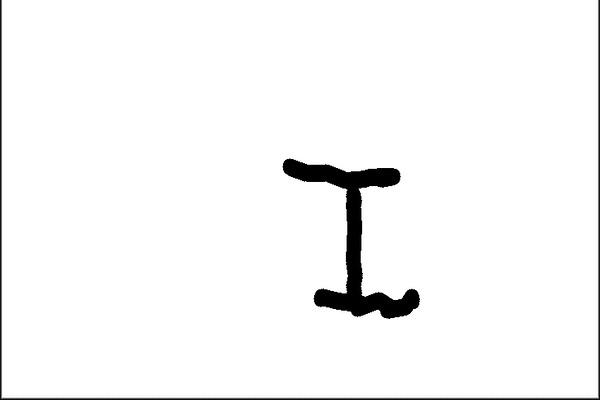i: (279, 149, 434, 323)
